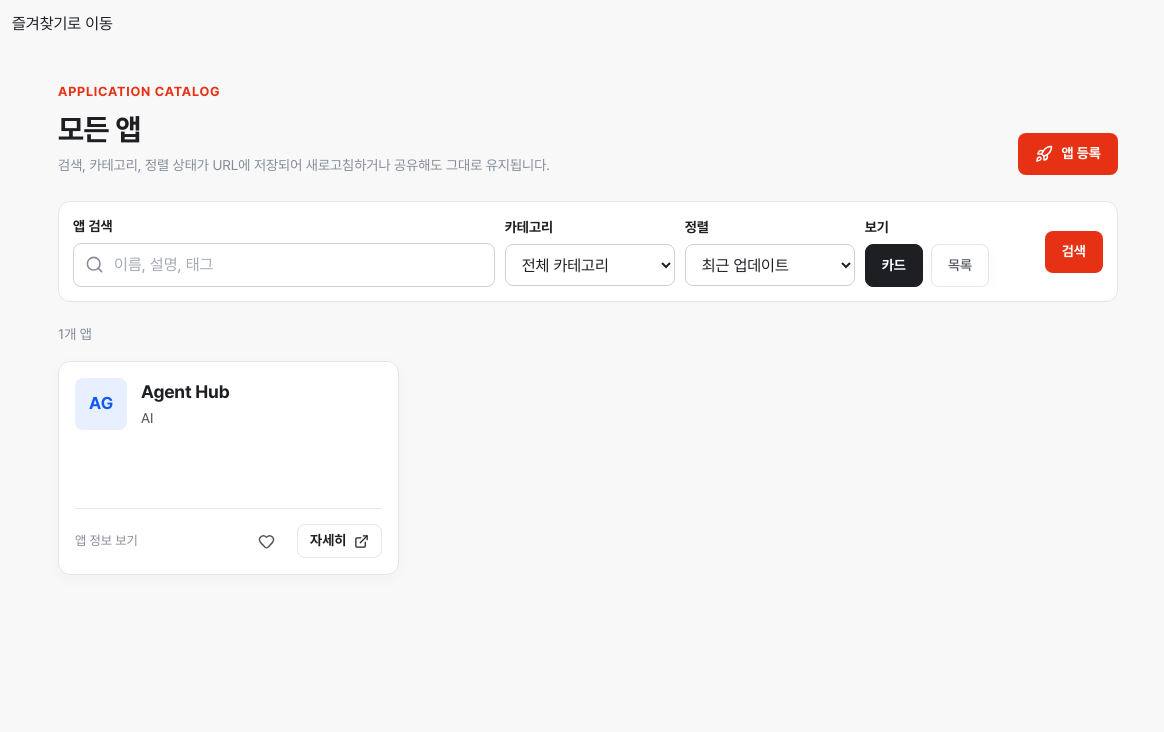
Test: Apps route state › shows a catalog favorite on /favorites and removes it when toggled off
Click the button named "Agent Hub 즐겨찾기 추가".
click(266, 541)  # box [245,524,288,558]
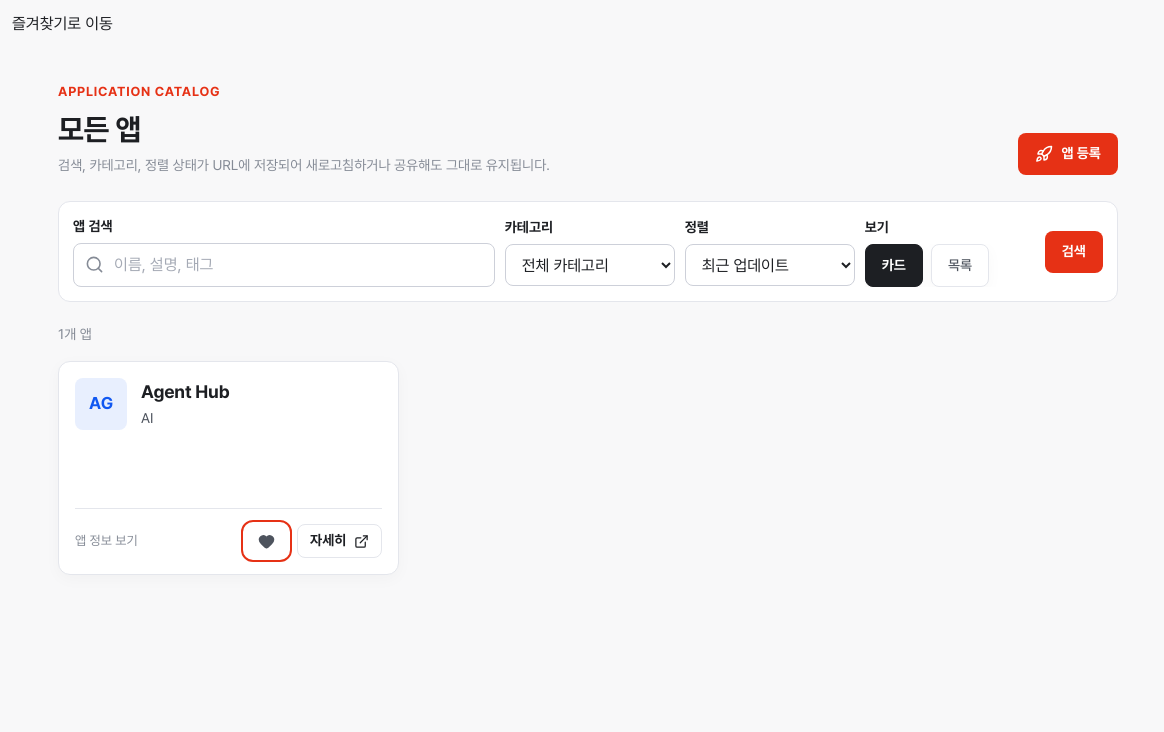
Expected: the button named "Agent Hub 즐겨찾기 해제" is pressed, [245,524,288,558]
Click the link "즐겨찾기로 이동".
click(62, 24)  # box [12,14,113,33]
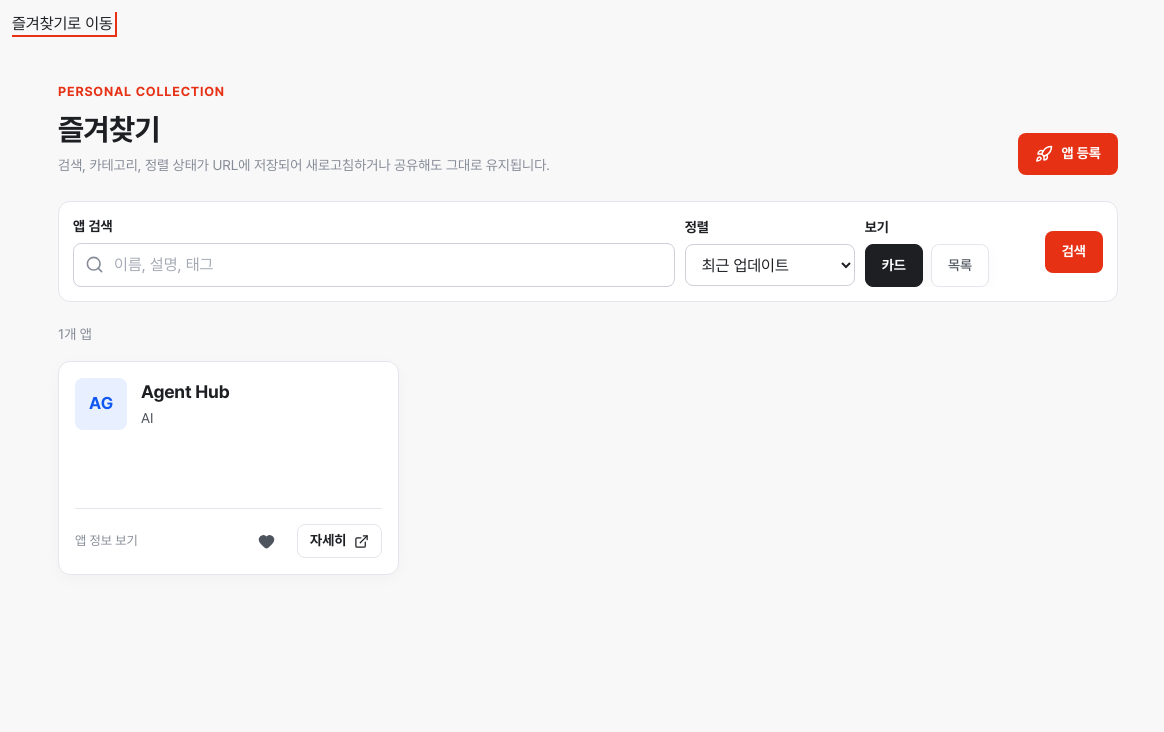
Expected: the heading "Agent Hub" is shown, [141,379,230,405]
Expected: the heading "즐겨찾기" is shown, [58,111,160,147]
Click the button named "Agent Hub 즐겨찾기 해제".
click(266, 541)  # box [245,524,288,558]
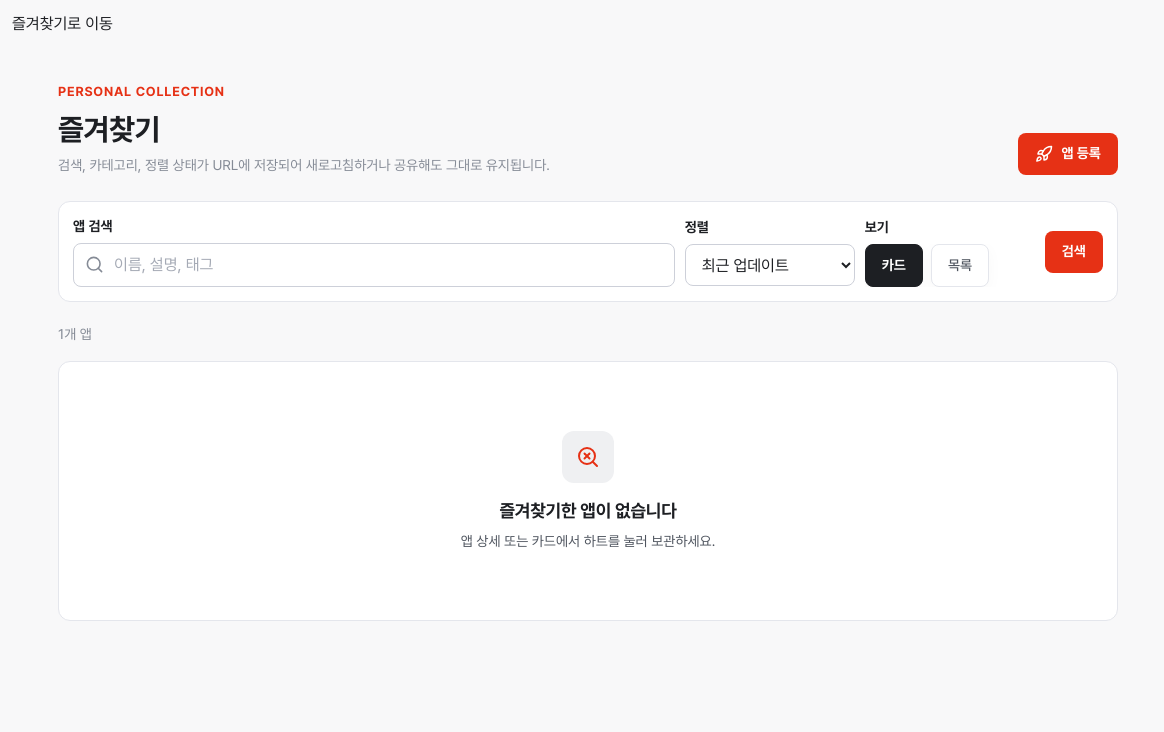
Expected: the link "Agent Hub" is gone
